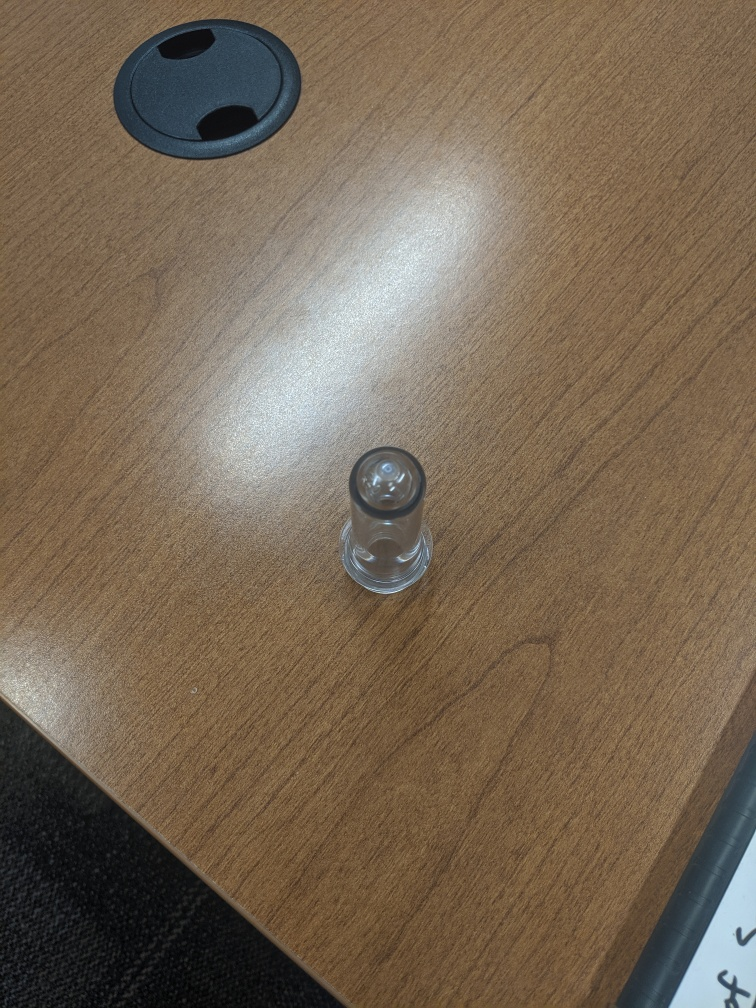preform: (326, 437, 444, 609)
